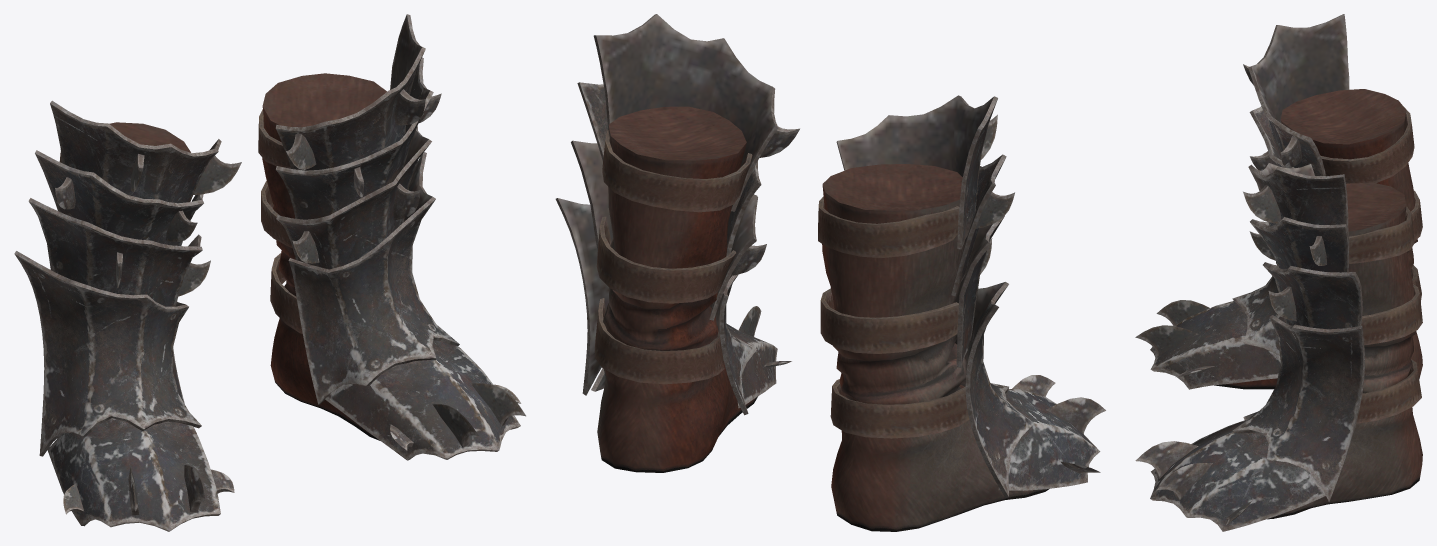
The model's file is sk_dg_uruk_boots_lord_c.fbx.
The picture shows the model from 3 angles, left to right: view 1: azimuth 30°, elevation 25°; view 2: azimuth 150°, elevation 25°; view 3: azimuth 270°, elevation 25°; orthographic projection. The views are drawn at different scales.
Visible parts, largest first — view 1: sk_dg_uruk_boots_lord_c.0, sk_dg_uruk_boots_lord_c.1; view 2: sk_dg_uruk_boots_lord_c.0, sk_dg_uruk_boots_lord_c.1; view 3: sk_dg_uruk_boots_lord_c.0, sk_dg_uruk_boots_lord_c.1.
Boxes of the visible parts, <box> form: sk_dg_uruk_boots_lord_c.0: <box>14,14,520,531</box>; sk_dg_uruk_boots_lord_c.1: <box>55,89,525,515</box>; sk_dg_uruk_boots_lord_c.0: <box>555,14,1100,531</box>; sk_dg_uruk_boots_lord_c.1: <box>594,114,1105,473</box>; sk_dg_uruk_boots_lord_c.0: <box>1150,14,1422,531</box>; sk_dg_uruk_boots_lord_c.1: <box>1135,64,1422,525</box>.
Size of the model in its own units: 0.6316 by 0.3732 by 0.4894.
Materials: 2 (2 with a texture image).
